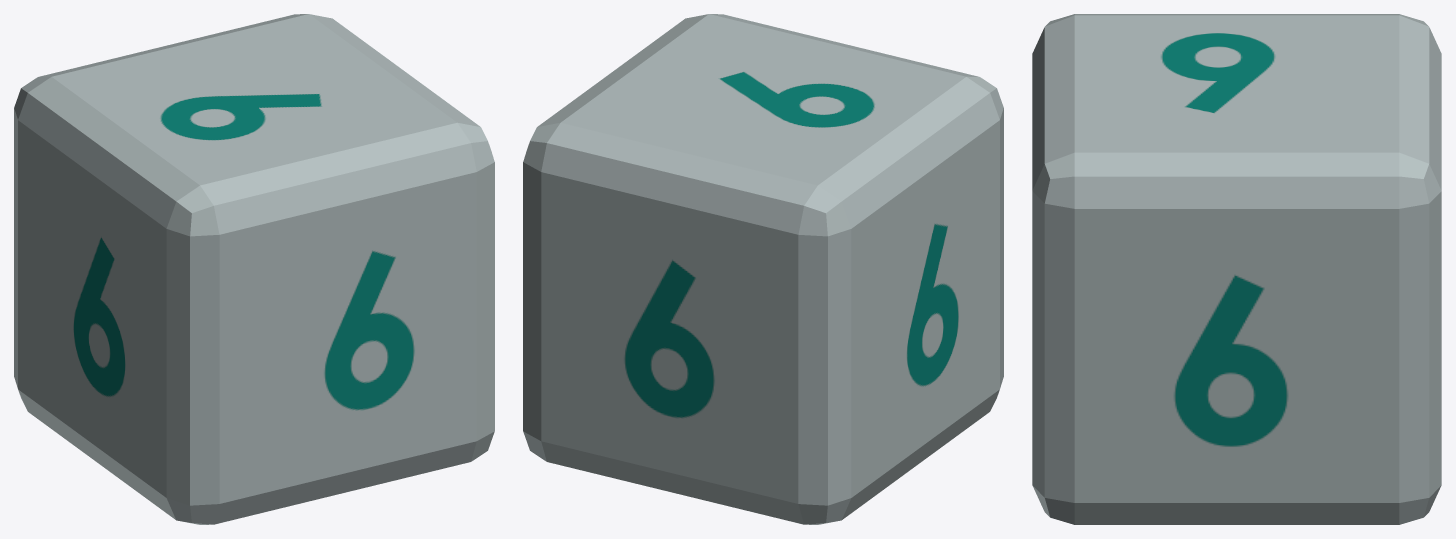
Rendered from cubeSix.glb.
The picture shows the model from 3 angles, left to right: view 1: azimuth 30°, elevation 25°; view 2: azimuth 150°, elevation 25°; view 3: azimuth 270°, elevation 25°; orthographic projection. The views are drawn at different scales.
Parts seen in each view (by area): view 1: Cube; view 2: Cube; view 3: Cube.
Boxes of the visible parts, box(x1,y1,x2,y2) form: Cube: box(14, 14, 494, 524); Cube: box(523, 14, 1003, 524); Cube: box(1032, 14, 1441, 524).
Size of the model in its own units: 2 by 2 by 2.
1 material, 1 textured.
